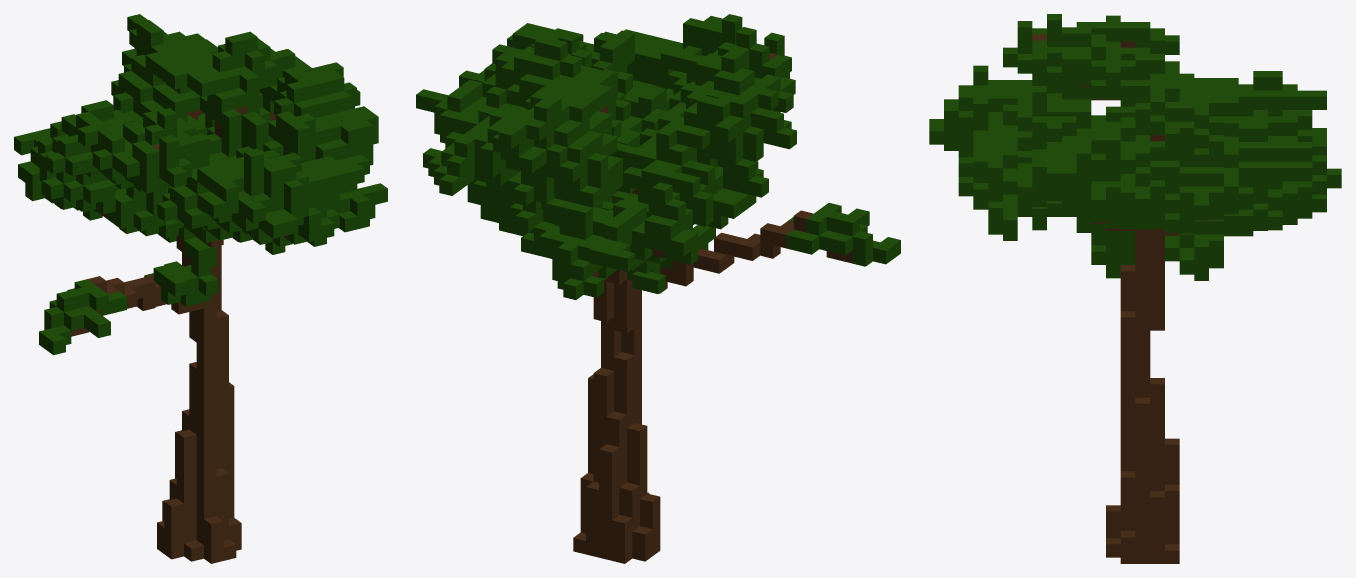
Rendered from treepluss swing-1.obj.
3 renders of one model, left to right at view 1: azimuth 30°, elevation 25°; view 2: azimuth 150°, elevation 25°; view 3: azimuth 270°, elevation 25°, orthographic. The views are drawn at different scales.
Size of the model in its own units: 3 by 3.7 by 2.8.
Materials: 1 (1 with a texture image).
